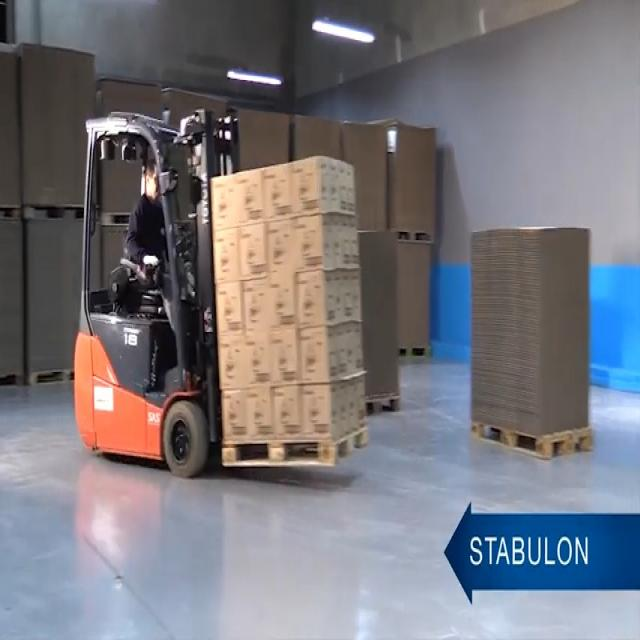Chariot elevateur: (67, 102, 241, 486)
Palette: (214, 422, 376, 470), (470, 416, 596, 452), (21, 193, 85, 228), (0, 364, 73, 390), (394, 223, 437, 248), (364, 392, 402, 420), (0, 196, 21, 231), (398, 342, 435, 358)
